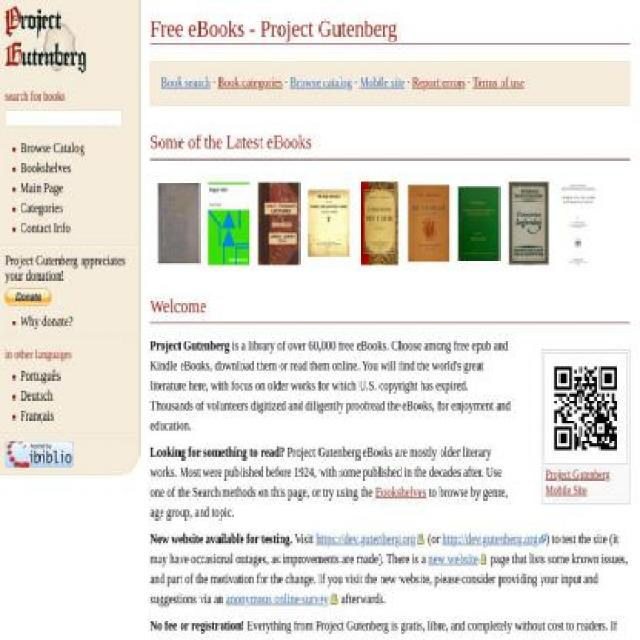button: (226, 591, 340, 606), (316, 531, 426, 546), (442, 531, 546, 546), (428, 551, 489, 566)
field: (5, 109, 123, 128), (6, 288, 52, 307)
